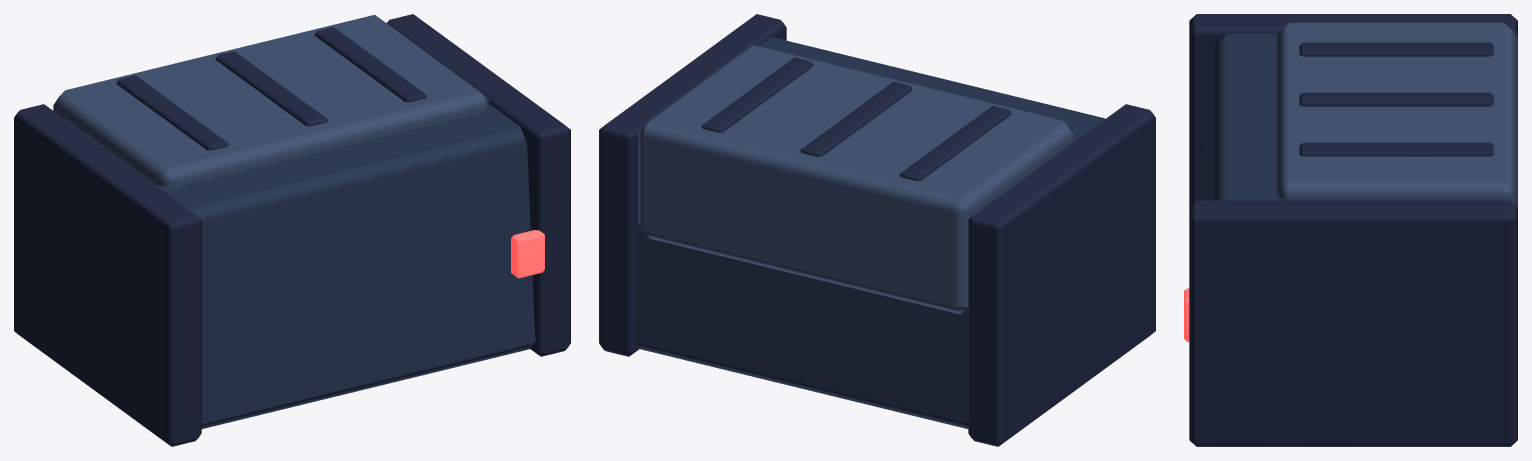
Rendered from floor_monitor.glb.
The picture shows the model from 3 angles, left to right: view 1: azimuth 30°, elevation 25°; view 2: azimuth 150°, elevation 25°; view 3: azimuth 270°, elevation 25°; orthographic projection. The views are drawn at different scales.
Visible parts, largest first — view 1: floor_monitor; view 2: floor_monitor; view 3: floor_monitor.
Boxes of the visible parts, x1=… form: floor_monitor: x1=14, y1=14, x2=570, y2=446; floor_monitor: x1=599, y1=14, x2=1155, y2=446; floor_monitor: x1=1184, y1=14, x2=1517, y2=446.
Bounding box in the file's own units: 0.9 × 0.514 × 0.62.
